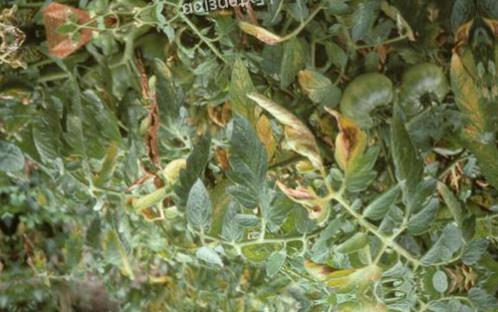Tomato Early blight leaf: (245, 83, 329, 186), (440, 22, 498, 147), (324, 102, 378, 198), (297, 246, 382, 302), (269, 174, 334, 229), (435, 175, 481, 252)
Tomato leaf: (382, 103, 437, 211), (222, 112, 277, 213), (183, 176, 215, 235)
